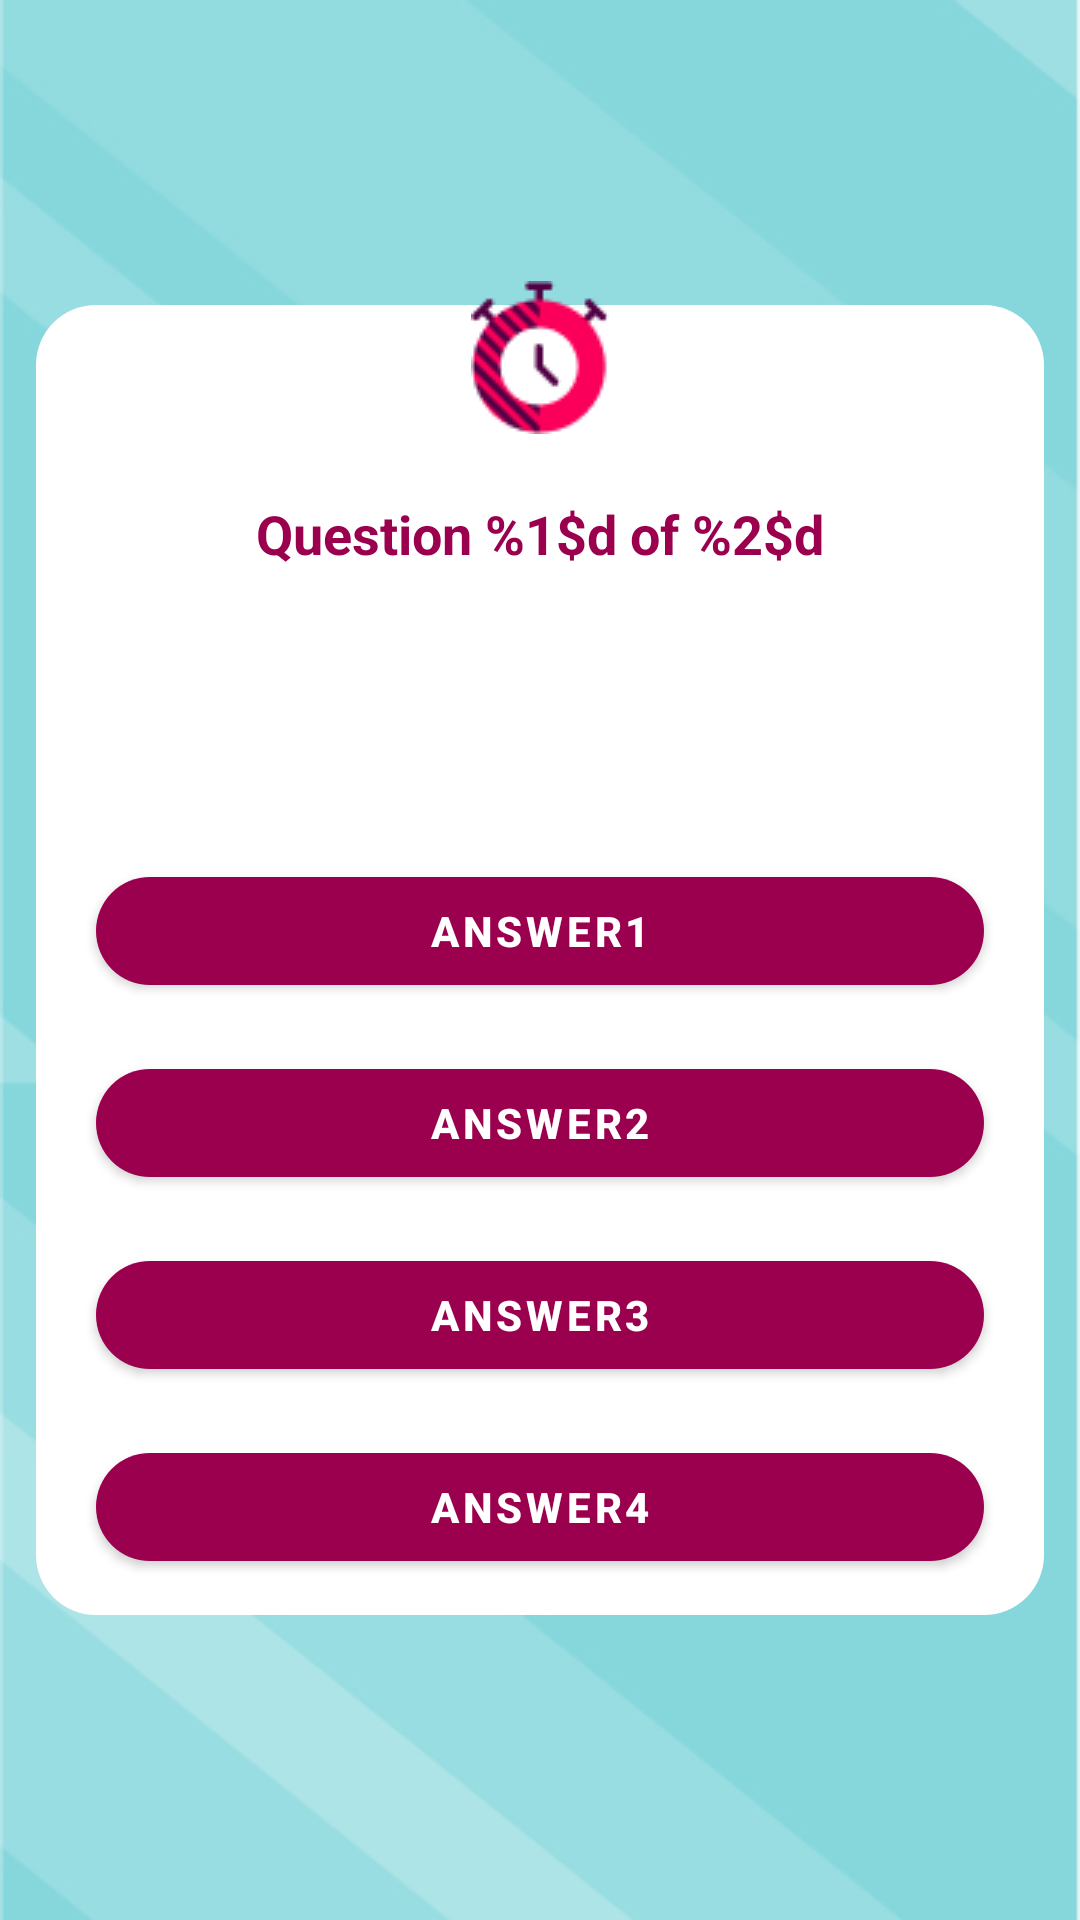

Locate icon controls on the screen. Image size 1080 × 1920, boxes as {"left": x1, "top": y1, "right": x2, "bottom": y2}.
clock: {"left": 471, "top": 281, "right": 609, "bottom": 434}
